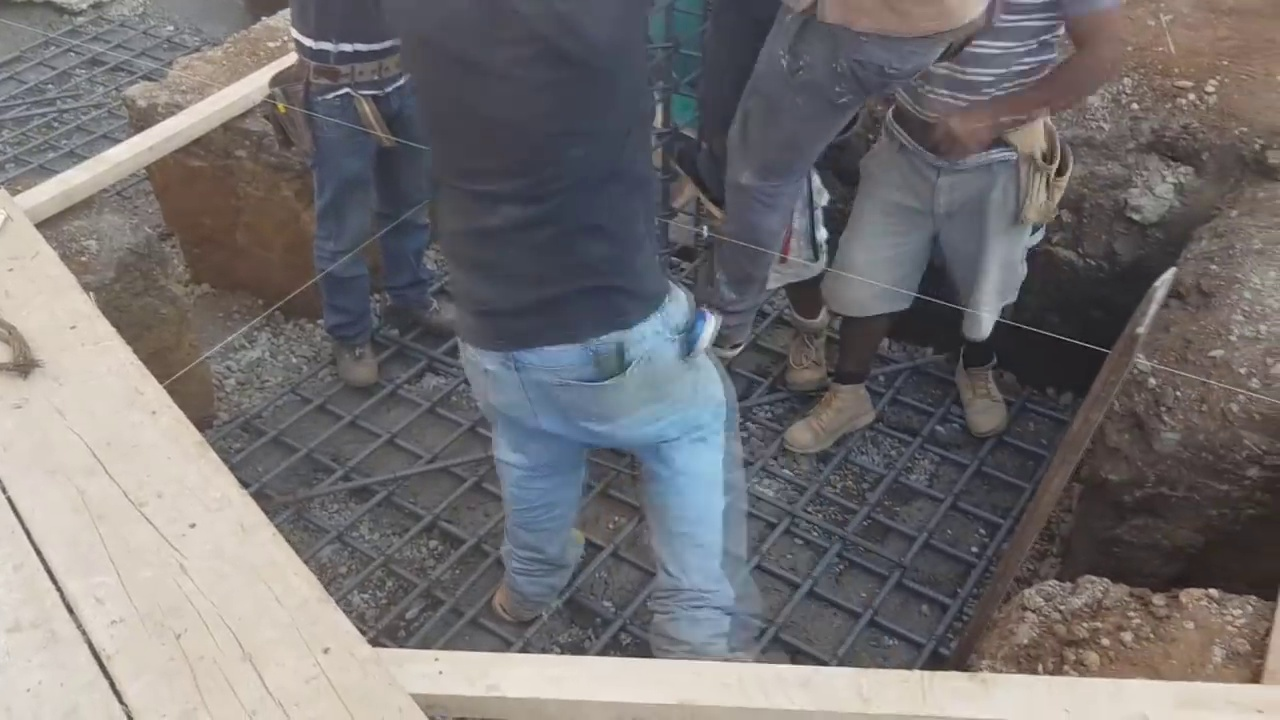person: (391, 0, 780, 662), (787, 0, 1134, 444), (698, 3, 994, 362), (285, 10, 450, 393)
